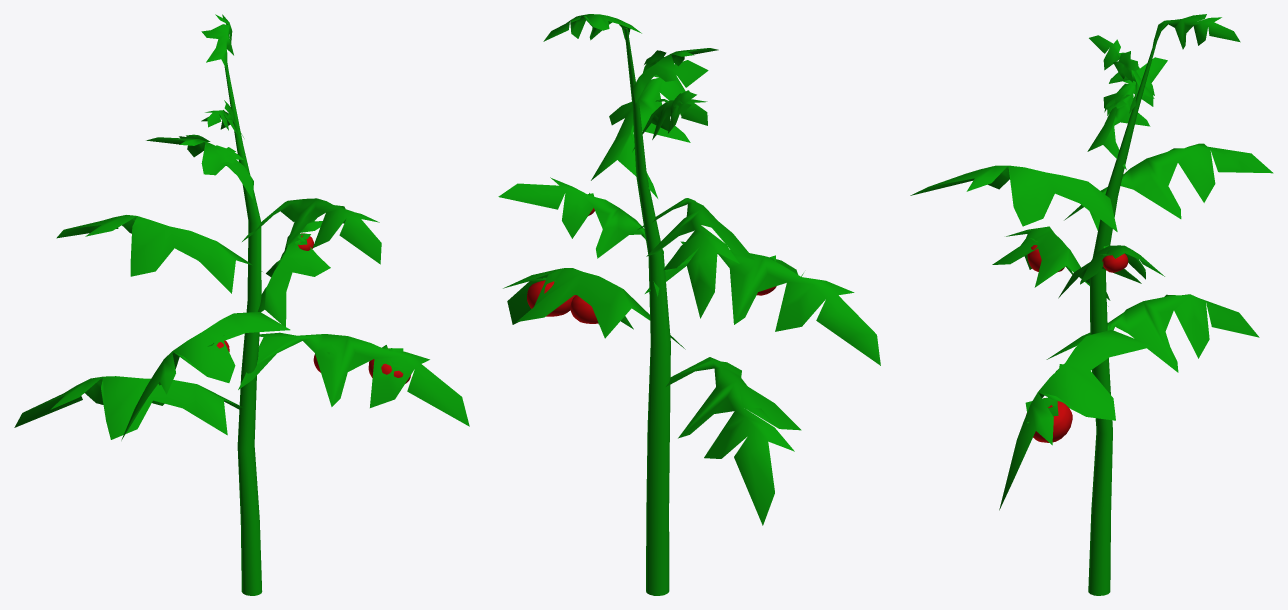
Rendered from tomateplanta.fbx.
The picture shows the model from 3 angles, left to right: view 1: azimuth 30°, elevation 25°; view 2: azimuth 150°, elevation 25°; view 3: azimuth 270°, elevation 25°; orthographic projection. The views are drawn at different scales.
Parts seen in each view (by area): view 1: tomato-plant; view 2: tomato-plant; view 3: tomato-plant.
Part boxes in pixels (box(x1,y1,x2,y2)): tomato-plant: box(14, 14, 469, 595); tomato-plant: box(498, 14, 880, 595); tomato-plant: box(910, 14, 1273, 595).
Bounding box in the file's own units: 1719 × 2585 × 1461.
